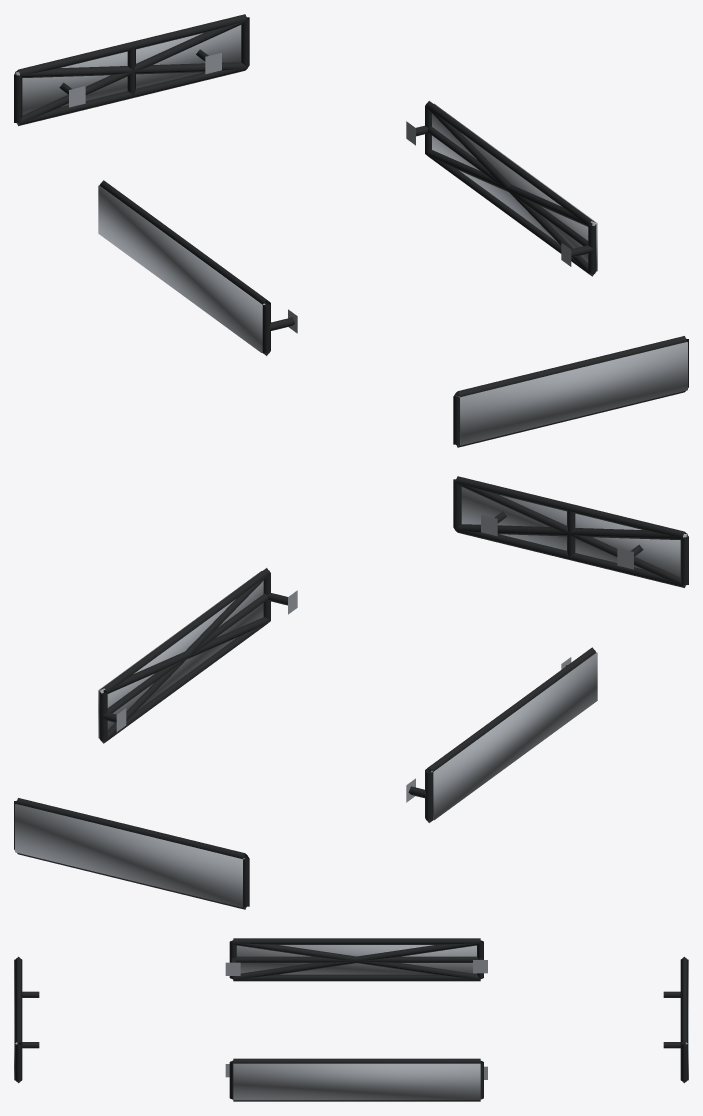
File: taurenza_galeria_protecao.glb
3 renders of one model, top to bottom at view 1: azimuth 30°, elevation 25°; view 2: azimuth 150°, elevation 25°; view 3: azimuth 270°, elevation 25°, orthographic. The views are drawn at different scales.
Visible parts, largest first — view 1: Protection_front_Level3_Details, Protection_left_Level3_Details, Protection_rear_Level1_Details, Protection_rear_Level3_Details, Protection_right_Level1_Details, Protection_right_Level2_Details, Protection_rear_Level2_Details, Protection_right_Level3_Details, Protection_front_Level1_Details, Protection_left_Level1_Details; view 2: Protection_rear_Level3_Details, Protection_left_Level3_Details, Protection_front_Level1_Details, Protection_front_Level3_Details, Protection_right_Level1_Details, Protection_front_Level2_Details, Protection_right_Level2_Details, Protection_right_Level3_Details, Protection_rear_Level1_Details, Protection_left_Level1_Details; view 3: Protection_right_Level3_Details, Protection_left_Level2_Details, Protection_left_Level1_Details, Protection_left_Level3_Details, Protection_right_Level1_Details, Protection_rear_Level1_Details, Protection_front_Level1_Details.
Boxes of the visible parts, x1,y1,x2,y2 form: Protection_front_Level3_Details: (458,342,687,445); Protection_left_Level3_Details: (98,185,265,352); Protection_rear_Level1_Details: (14,14,249,125); Protection_rear_Level3_Details: (15,25,241,115); Protection_right_Level1_Details: (406,101,596,276); Protection_right_Level2_Details: (425,107,595,275); Protection_rear_Level2_Details: (16,20,247,124); Protection_right_Level3_Details: (432,103,597,271); Protection_front_Level1_Details: (453,336,688,447); Protection_left_Level1_Details: (99,180,297,355); Protection_rear_Level3_Details: (15,804,244,907); Protection_left_Level3_Details: (430,652,597,820); Protection_front_Level1_Details: (453,476,688,587); Protection_front_Level3_Details: (461,487,687,577); Protection_right_Level1_Details: (99,568,297,743); Protection_front_Level2_Details: (455,482,686,586); Protection_right_Level2_Details: (100,573,270,742); Protection_right_Level3_Details: (98,571,263,738); Protection_rear_Level1_Details: (14,798,249,909); Protection_left_Level1_Details: (406,647,596,822); Protection_right_Level3_Details: (233,1063,480,1100); Protection_left_Level2_Details: (233,940,479,979); Protection_left_Level1_Details: (225,938,487,981); Protection_left_Level3_Details: (236,945,476,974); Protection_right_Level1_Details: (225,1058,487,1101); Protection_rear_Level1_Details: (663,956,687,1083); Protection_front_Level1_Details: (15,956,39,1083).
Size of the model in its own units: 2.2 by 0.354 by 5.05.
Materials: 1 (1 with a texture image).
